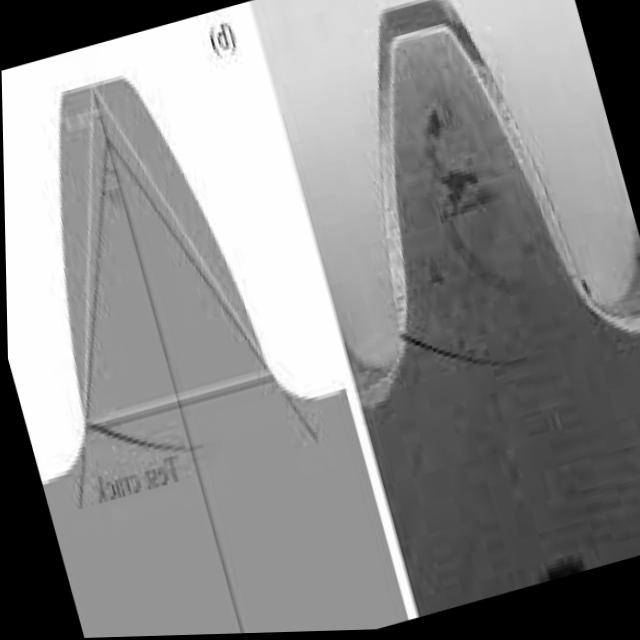Fault-Exist: (296, 0, 640, 605)
